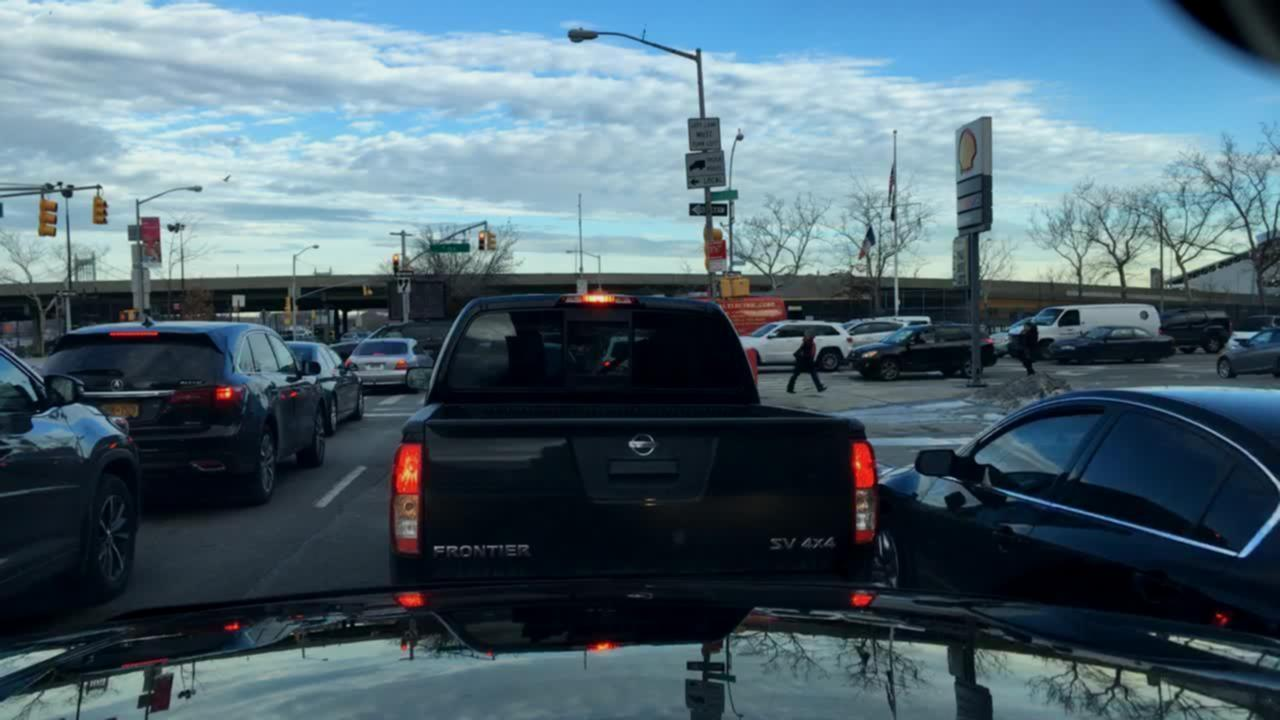Nissan: (624, 422, 676, 469)
acura: (106, 373, 127, 396)
